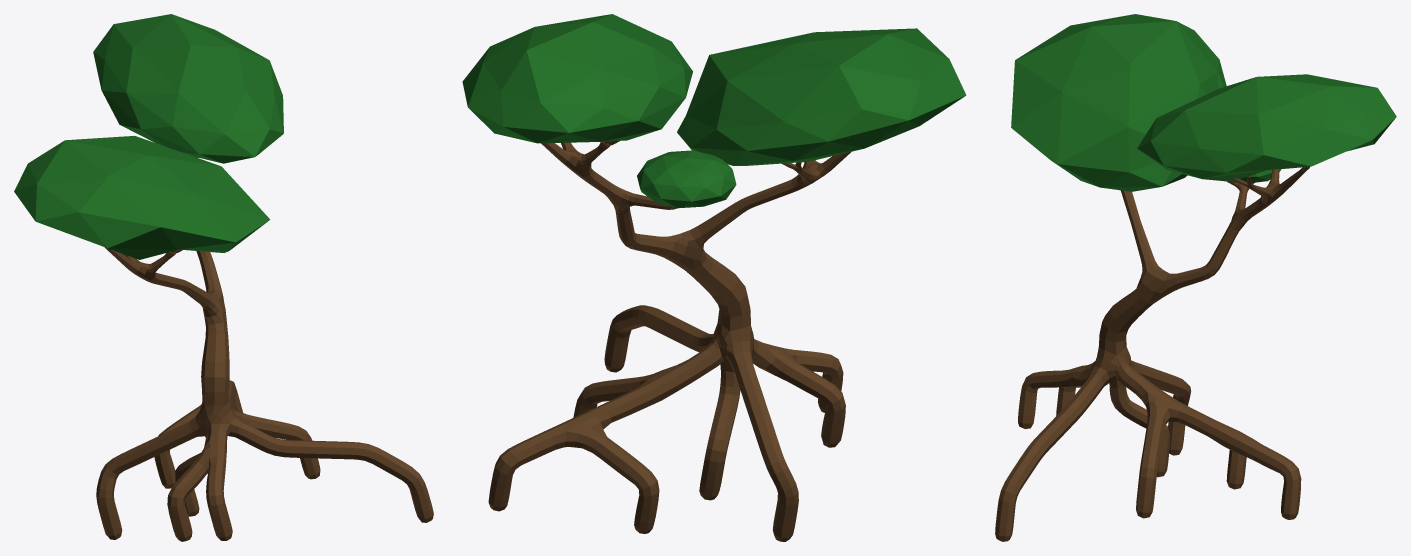
File: tree3-1.fbx
The picture shows the model from 3 angles, left to right: view 1: azimuth 30°, elevation 25°; view 2: azimuth 150°, elevation 25°; view 3: azimuth 270°, elevation 25°; orthographic projection. The views are drawn at different scales.
Visible parts, largest first — view 1: Cube_LOD0; view 2: Cube_LOD0; view 3: Cube_LOD0.
Part boxes in pixels (x1=…): Cube_LOD0: x1=14, y1=14, x2=433, y2=541; Cube_LOD0: x1=462, y1=14, x2=966, y2=541; Cube_LOD0: x1=995, y1=14, x2=1396, y2=541.
Size of what is drawn, in the model's own units: 775 by 922 by 770.
